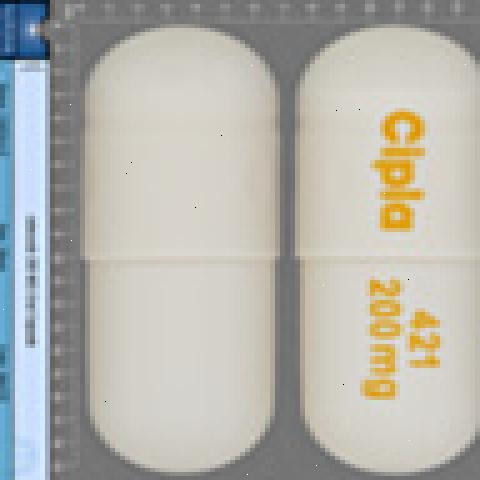Pill: (70, 14, 292, 470), (282, 13, 480, 479)
